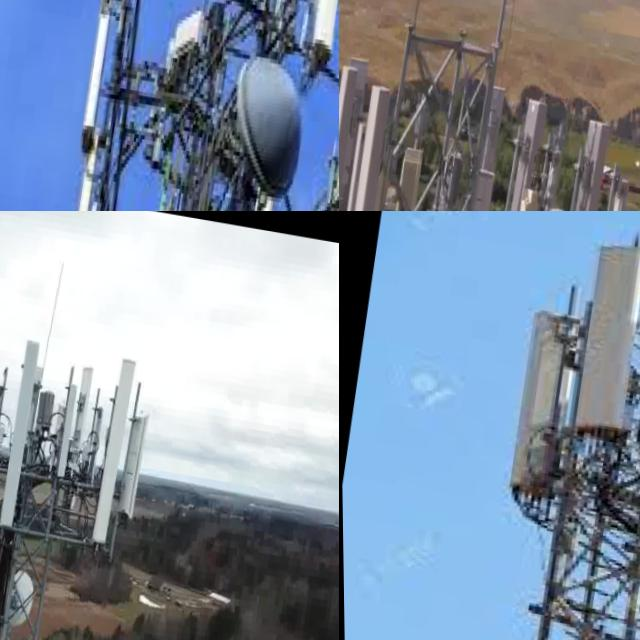GSM Antenna: (483, 293, 590, 498), (560, 229, 640, 444), (83, 354, 142, 545), (480, 74, 562, 211), (0, 329, 45, 536), (339, 67, 402, 211), (538, 111, 618, 211), (76, 5, 115, 150), (63, 358, 99, 481), (398, 106, 436, 191), (64, 139, 106, 211), (52, 382, 82, 473), (584, 171, 635, 211), (311, 154, 339, 211)
Microwave Antenna: (1, 563, 40, 631)
